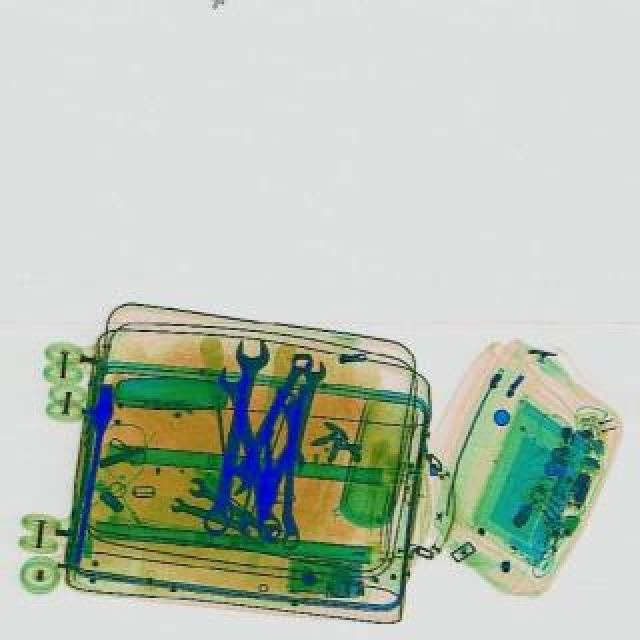scissors: (194, 338, 276, 538), (220, 346, 326, 498), (218, 360, 284, 492), (186, 474, 290, 546), (274, 358, 332, 474), (170, 496, 260, 540), (282, 392, 302, 552)
